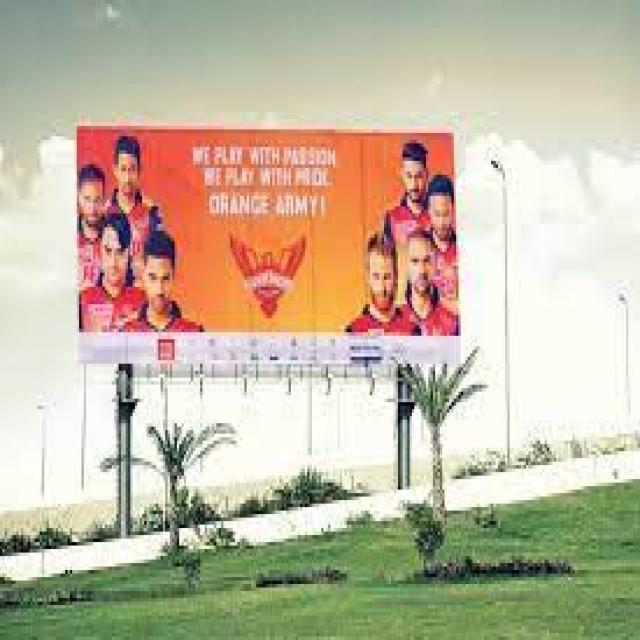Werbetafel frei: (76, 123, 462, 376)
